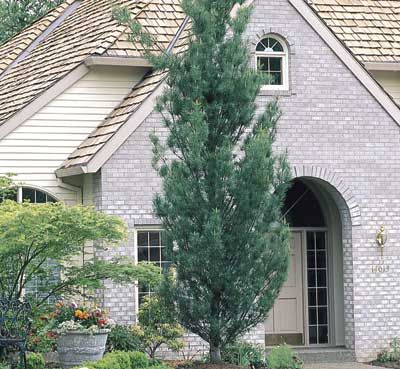tree: (147, 1, 293, 363)
